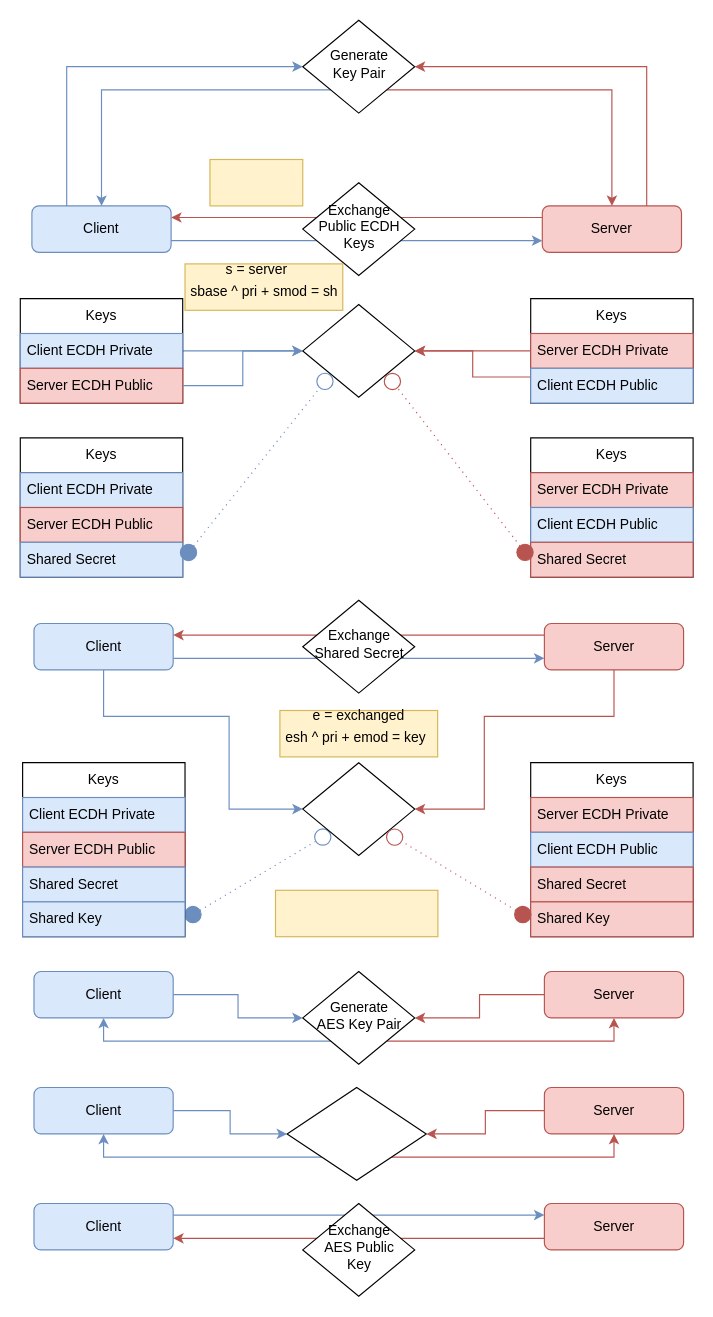
Some shapes in this 713 by 1317 pixel diagram are drawn without their labels. The shapes that lost their labels are listed below. From the top down, each one's centre as x and y in pixels, then its label:
the point at 256,182: base + mod
the point at 358,350: Generate Shared Secret
the point at 358,808: Generate Key
the point at 356,913: client key = server key
the point at 356,1133: Ecrypt AES Public With Shared Key
